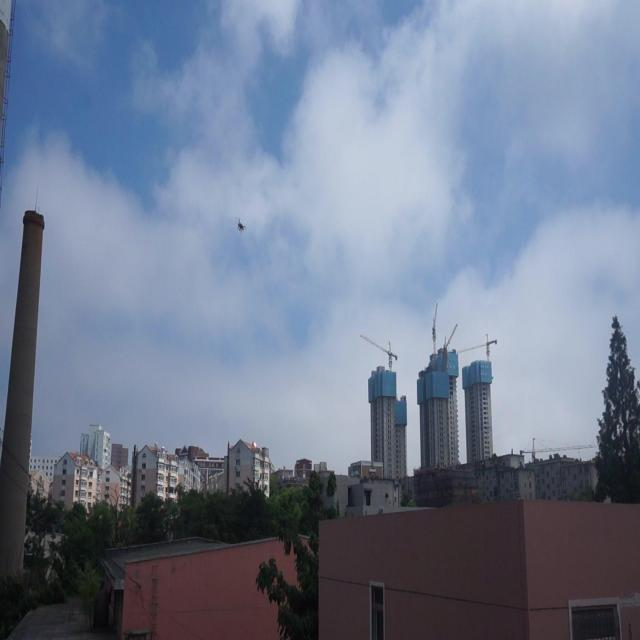UAV: (235, 216, 248, 234)
